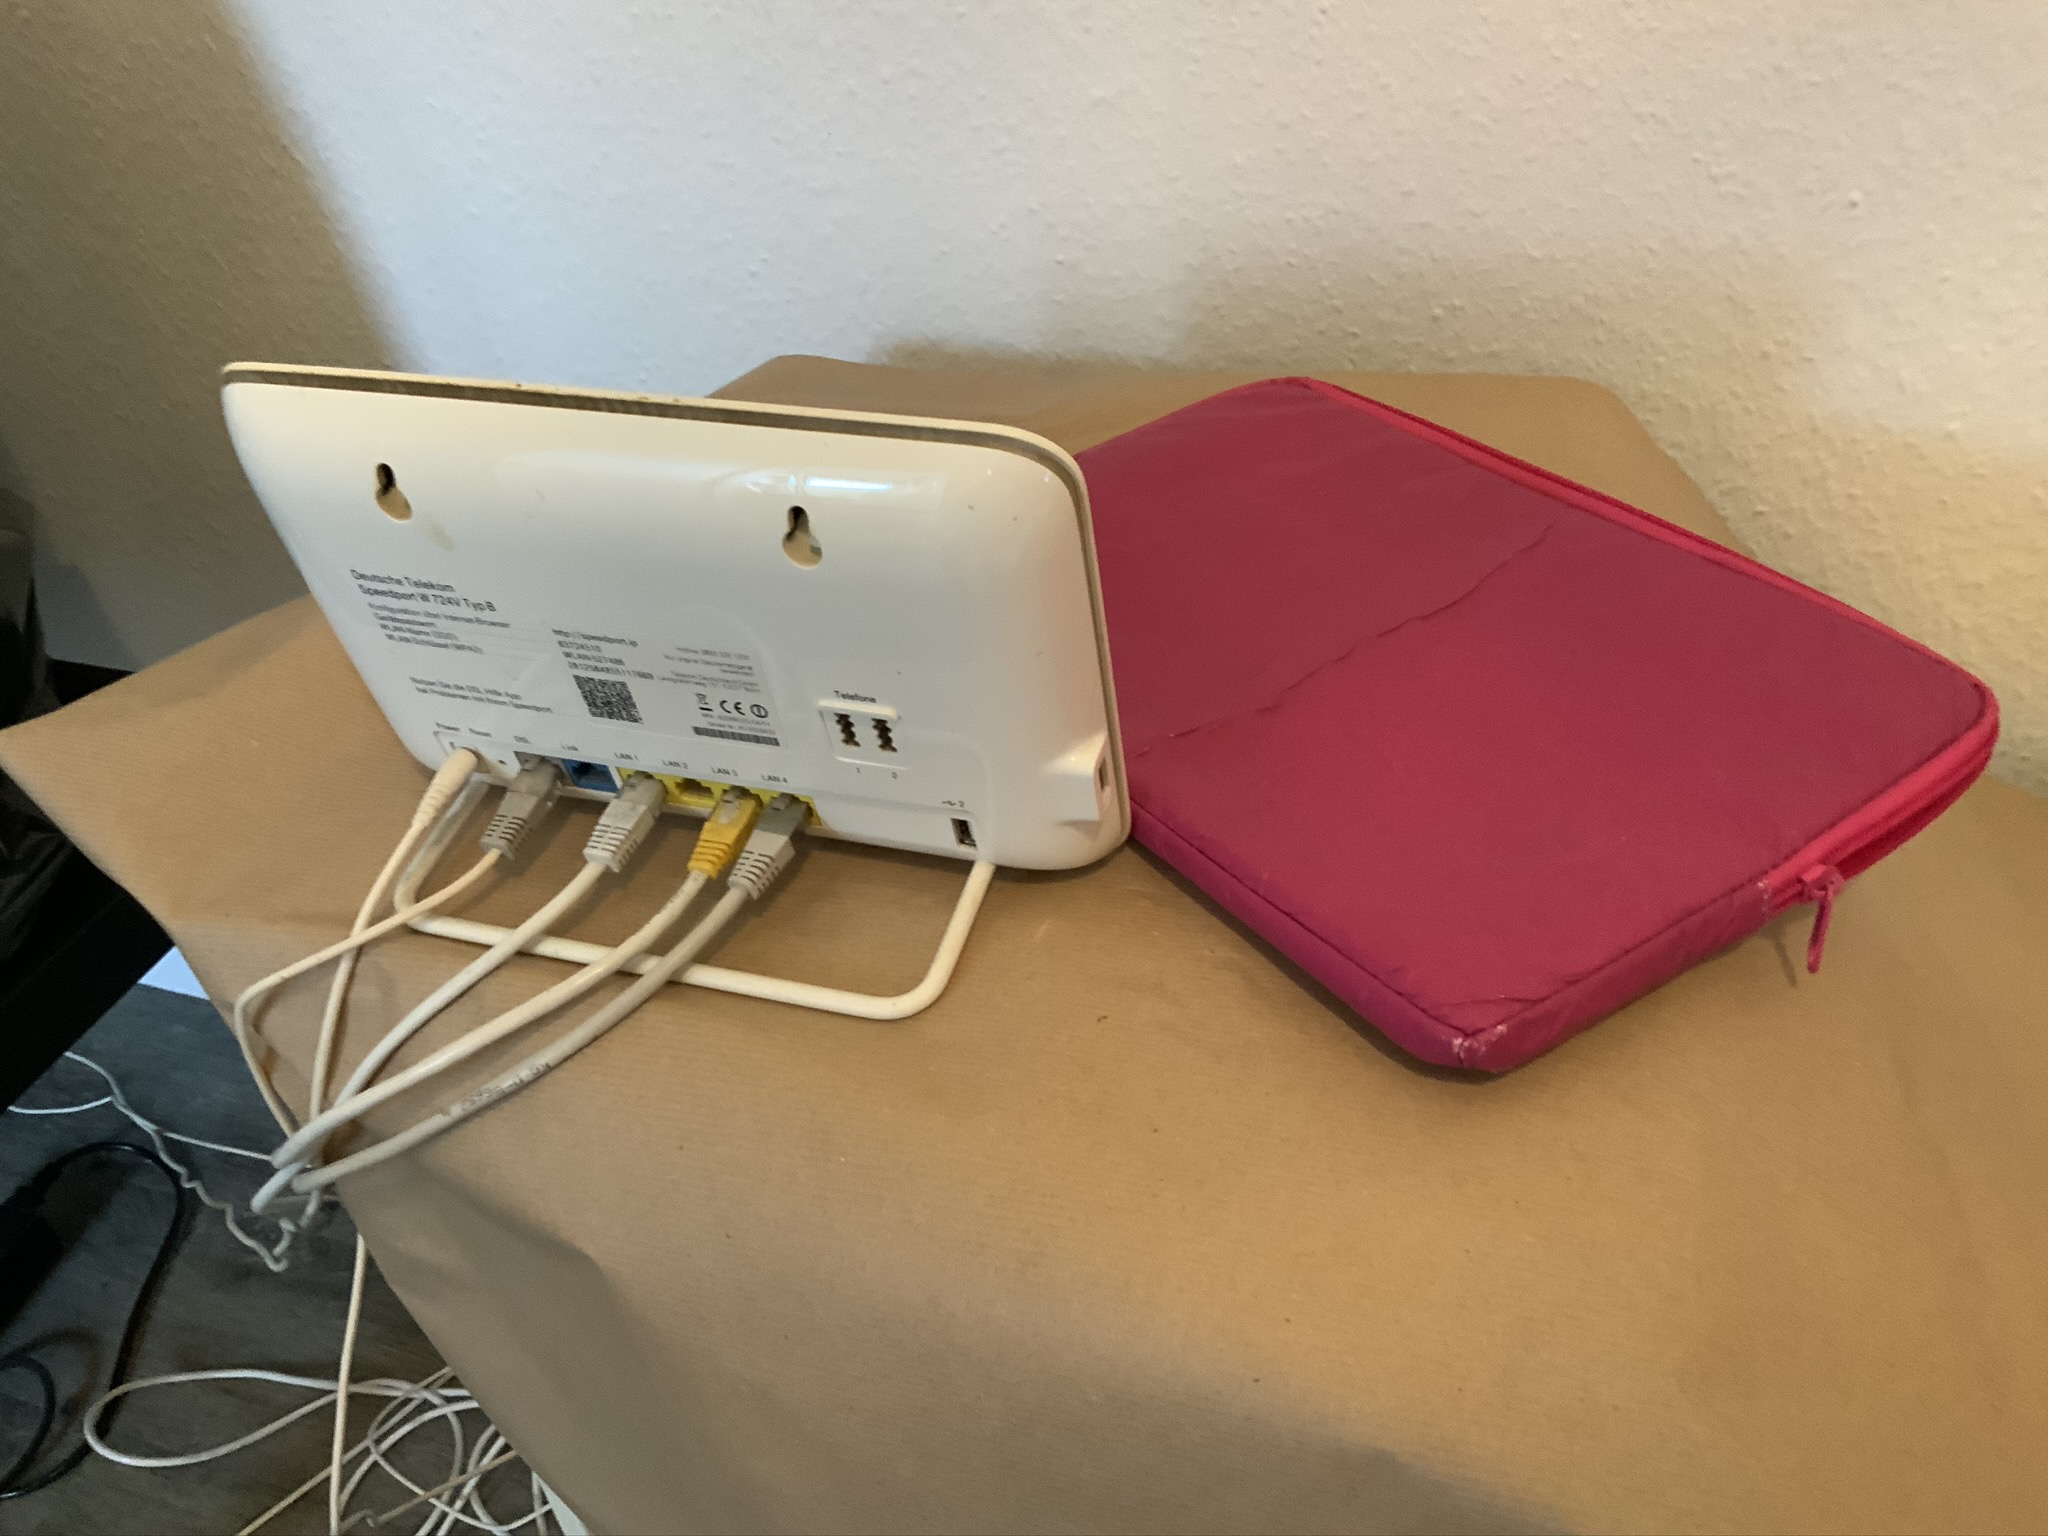router: (214, 352, 1134, 887)
